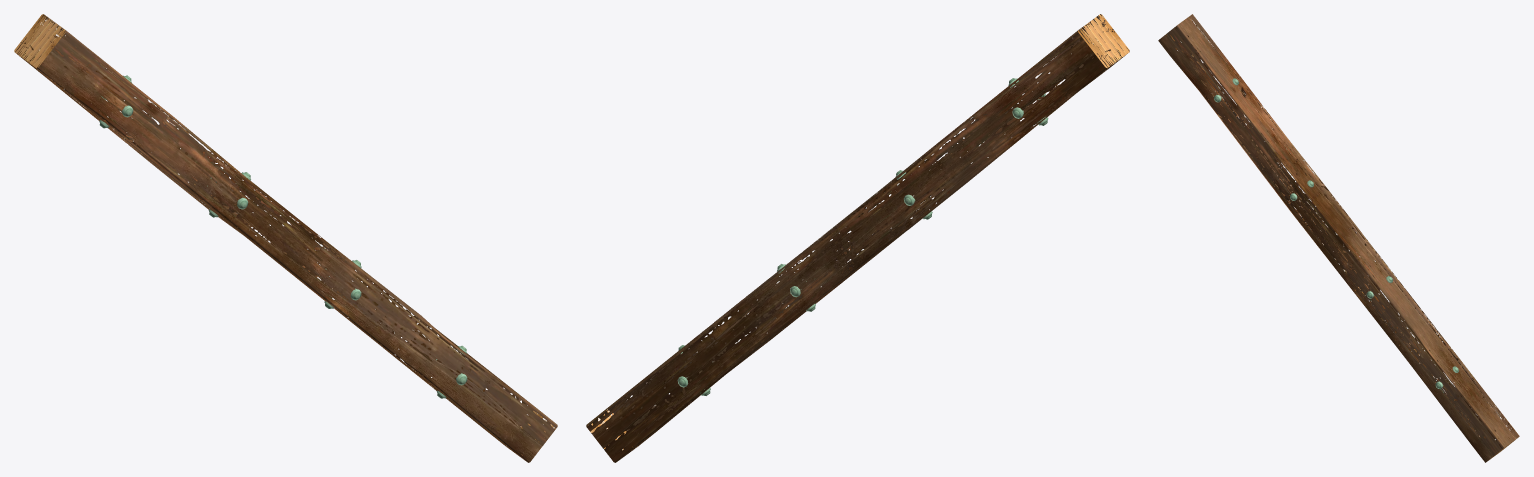
3 renders of one model, left to right at view 1: azimuth 30°, elevation 25°; view 2: azimuth 150°, elevation 25°; view 3: azimuth 330°, elevation 25°, orthographic. The views are drawn at different scales.
Visible parts, largest first — view 1: SM_BB_T4_Beam_Thin_Large_Diagonal_LOD0; view 2: SM_BB_T4_Beam_Thin_Large_Diagonal_LOD0; view 3: SM_BB_T4_Beam_Thin_Large_Diagonal_LOD0.
Part boxes in pixels (left/top/right/bottom): SM_BB_T4_Beam_Thin_Large_Diagonal_LOD0: left=14, top=14, right=557, bottom=462; SM_BB_T4_Beam_Thin_Large_Diagonal_LOD0: left=586, top=14, right=1129, bottom=462; SM_BB_T4_Beam_Thin_Large_Diagonal_LOD0: left=1158, top=14, right=1519, bottom=462.
Bounding box in the file's own units: 3.18 × 3.18 × 0.3032.
2 materials, 2 textured.
